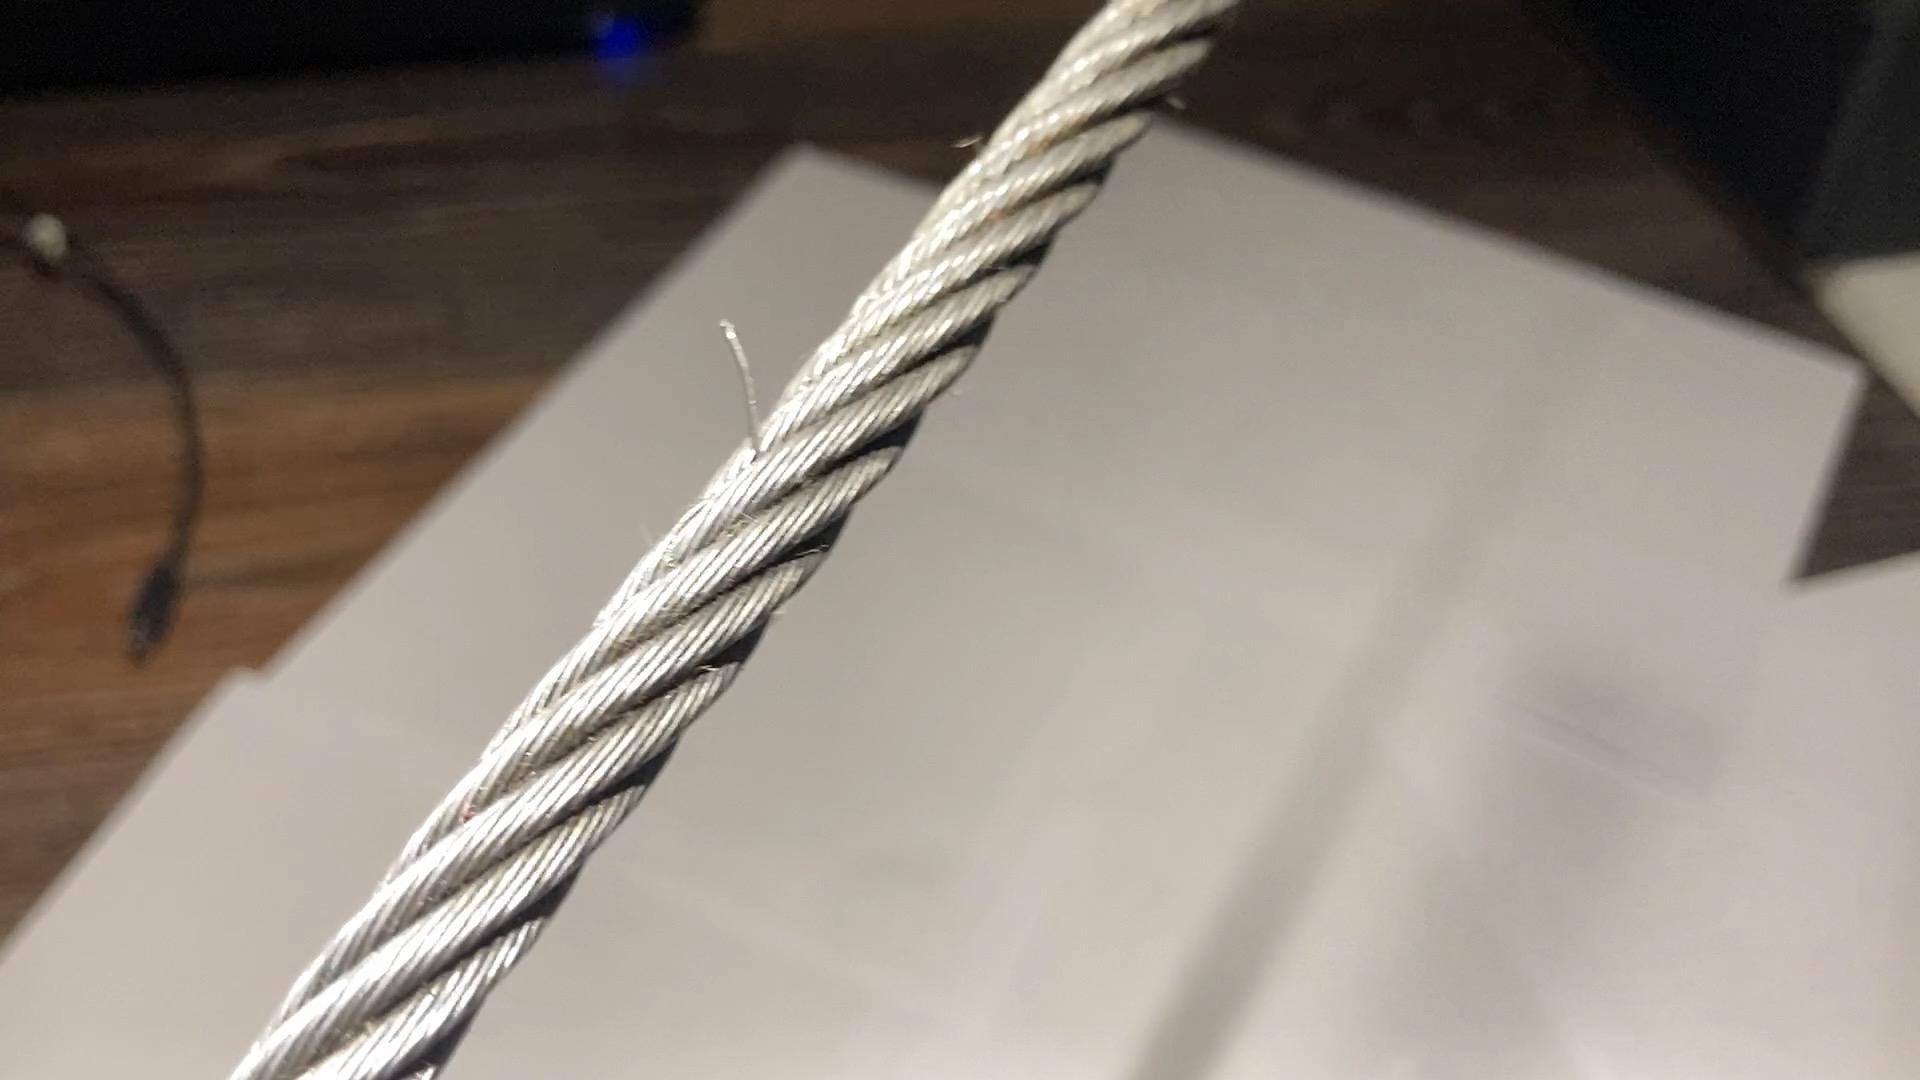break: (711, 307, 783, 460)
